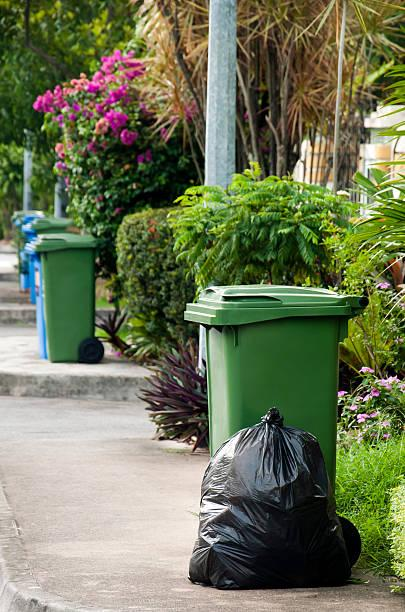trash: (193, 412, 349, 609)
trash_can_overflow: (173, 269, 374, 597)
